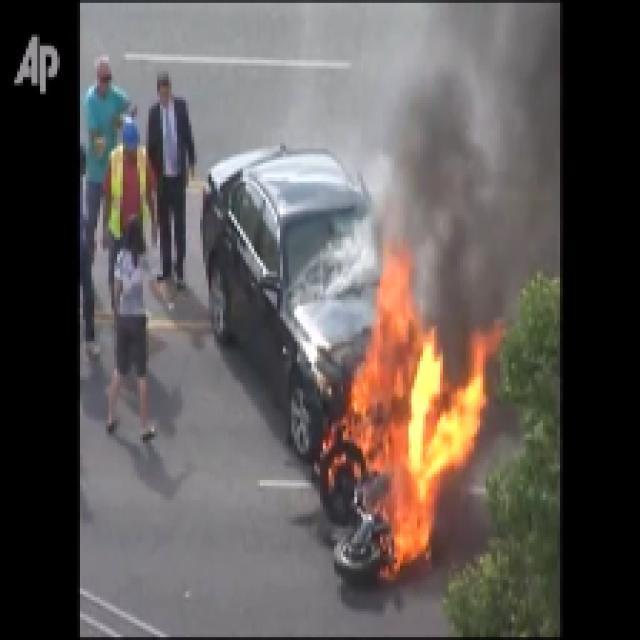Fire: (352, 319, 468, 564)
Smoke: (420, 23, 550, 296)
